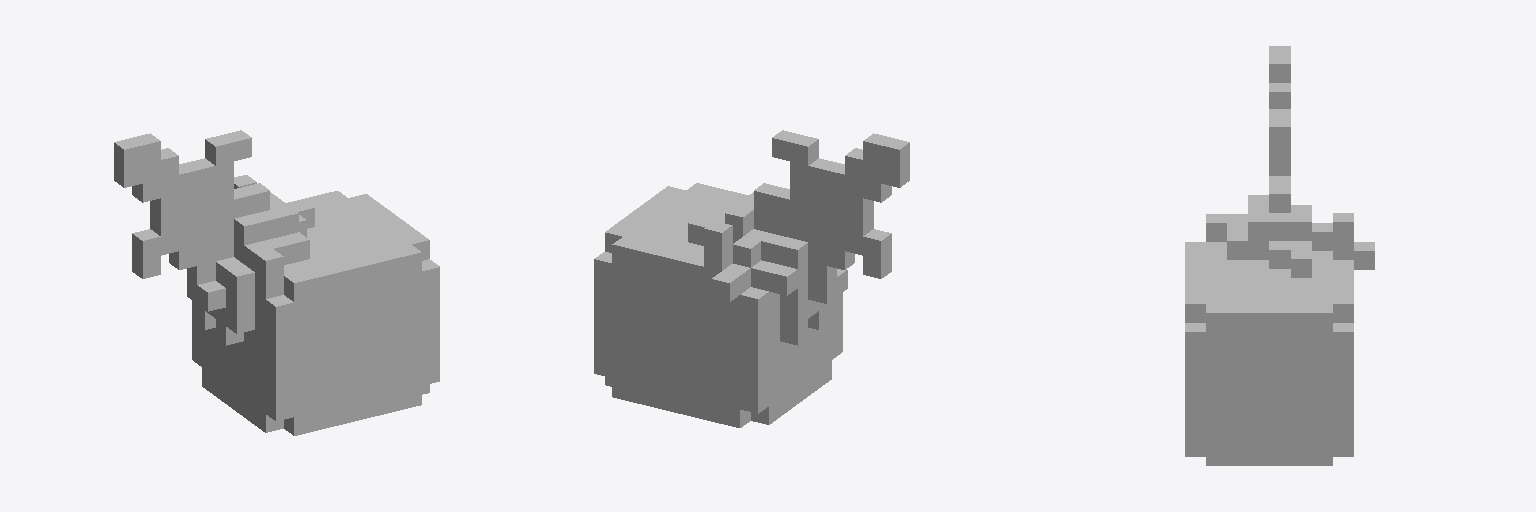
Rendered from head.obj.
3 views of the same model, side by side, from view 1: azimuth 30°, elevation 25°; view 2: azimuth 150°, elevation 25°; view 3: azimuth 270°, elevation 25° (orthographic).
Parts seen in each view (by area): view 1: object 1; view 2: object 1; view 3: object 1.
Part boxes in pixels (bbox=[...]): object 1: bbox=[114, 130, 439, 435]; object 1: bbox=[594, 130, 909, 427]; object 1: bbox=[1185, 46, 1374, 465].
Size of the model in its own units: 1.5 by 1.5 by 0.9.